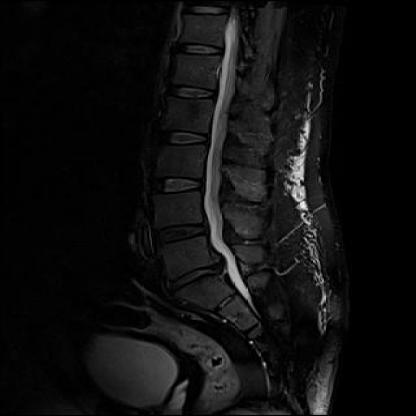Degenerative Disc Diseaserotation: (162, 255, 236, 295), (148, 222, 210, 248), (149, 173, 205, 197)
Disc Bulgerotation: (160, 255, 234, 295), (148, 173, 206, 198), (149, 224, 210, 246)
